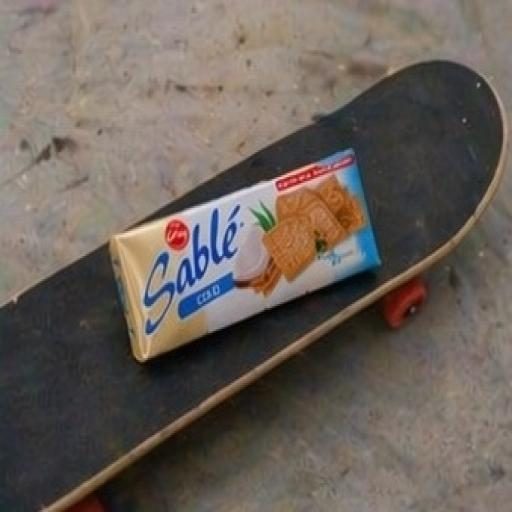sabl: (78, 132, 402, 360)
